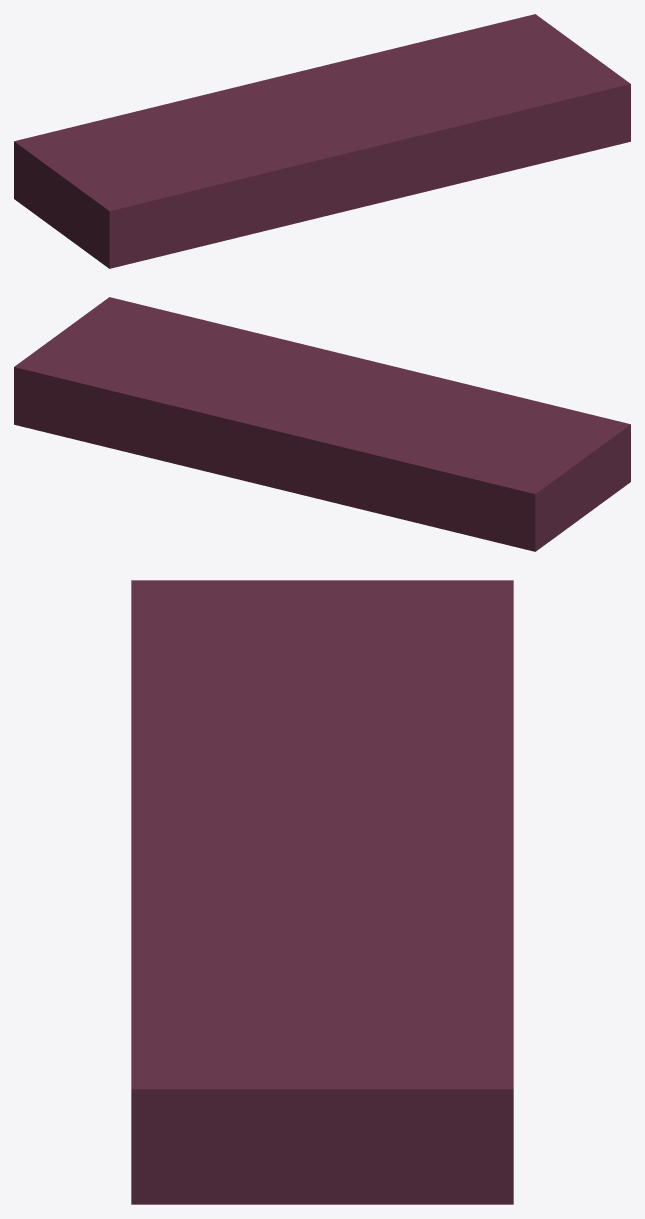
The model's file is placa_video.obj.
3 renders of one model, top to bottom at view 1: azimuth 30°, elevation 25°; view 2: azimuth 150°, elevation 25°; view 3: azimuth 270°, elevation 25°, orthographic. The views are drawn at different scales.
Visible parts, largest first — view 1: placa_video.001; view 2: placa_video.001; view 3: placa_video.001.
Part boxes in pixels (x1=…): placa_video.001: x1=14, y1=14, x2=630, y2=268; placa_video.001: x1=14, y1=297, x2=630, y2=551; placa_video.001: x1=131, y1=580, x2=513, y2=1204.
Bounding box in the file's own units: 0.208 × 0.022 × 0.066.
